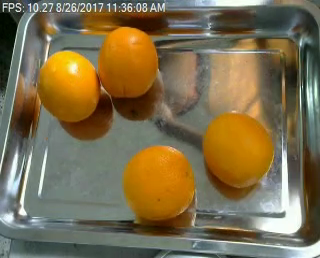Orange: (201, 109, 273, 186), (122, 144, 193, 219), (35, 49, 100, 121), (98, 26, 157, 100)
